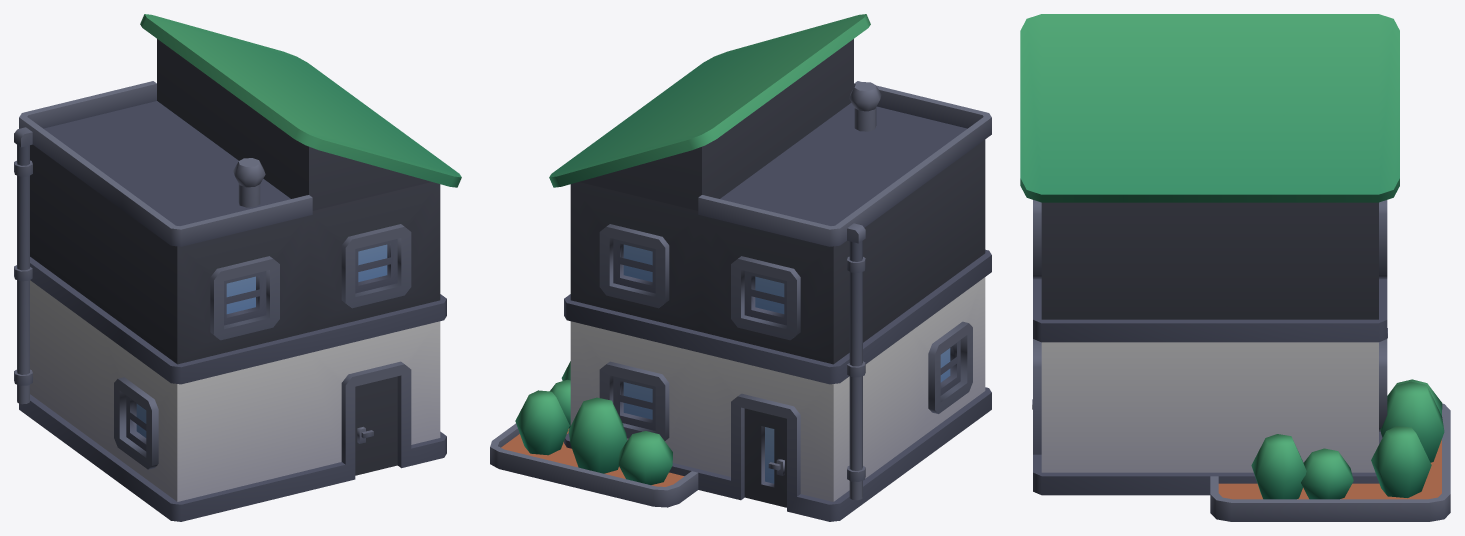
The model's file is building-type-l.glb.
The picture shows the model from 3 angles, left to right: view 1: azimuth 30°, elevation 25°; view 2: azimuth 150°, elevation 25°; view 3: azimuth 270°, elevation 25°; orthographic projection. The views are drawn at different scales.
Visible parts, largest first — view 1: building-type-l; view 2: building-type-l; view 3: building-type-l.
Part boxes in pixels (<box>): building-type-l: <box>14,14,461,521</box>; building-type-l: <box>490,14,991,521</box>; building-type-l: <box>1020,14,1450,521</box>.
Bounding box in the file's own units: 1.03 × 1.05 × 1.02.
